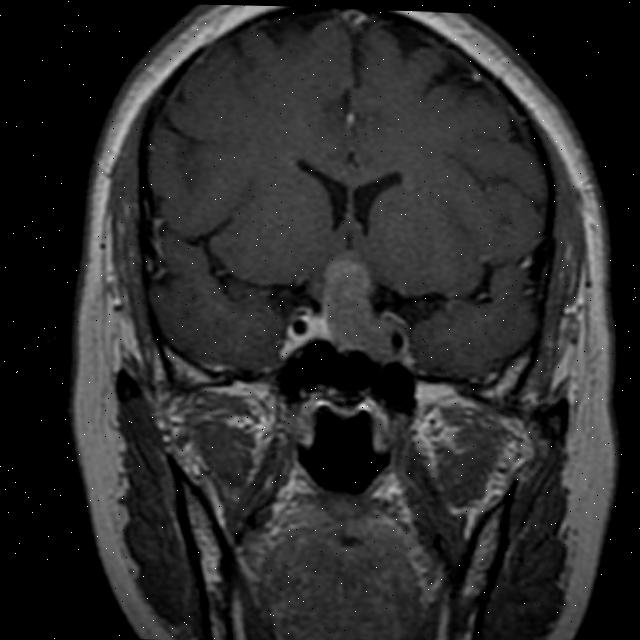Pituitary: (317, 252, 396, 364)
